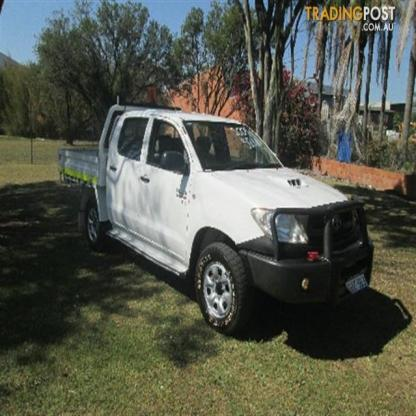light_vehicle: (55, 90, 379, 341)
